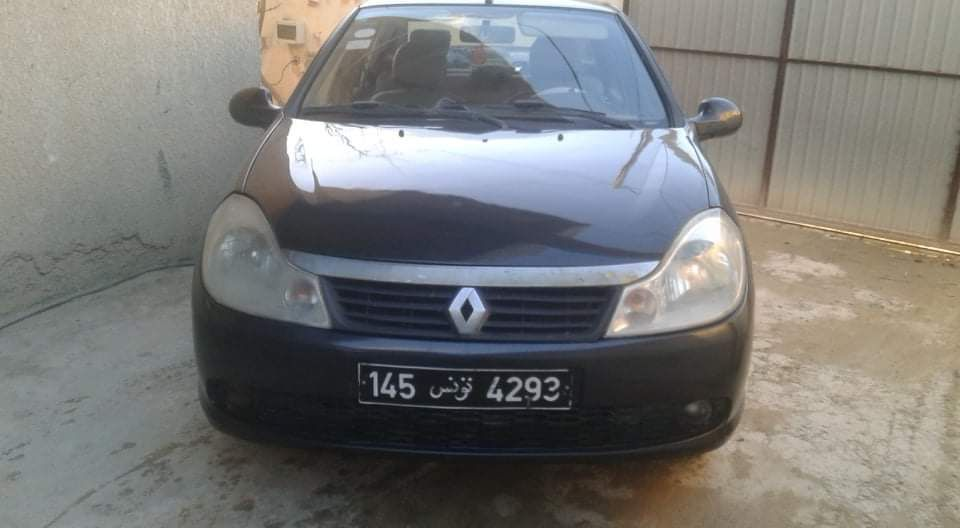LP: (354, 358, 577, 415)
